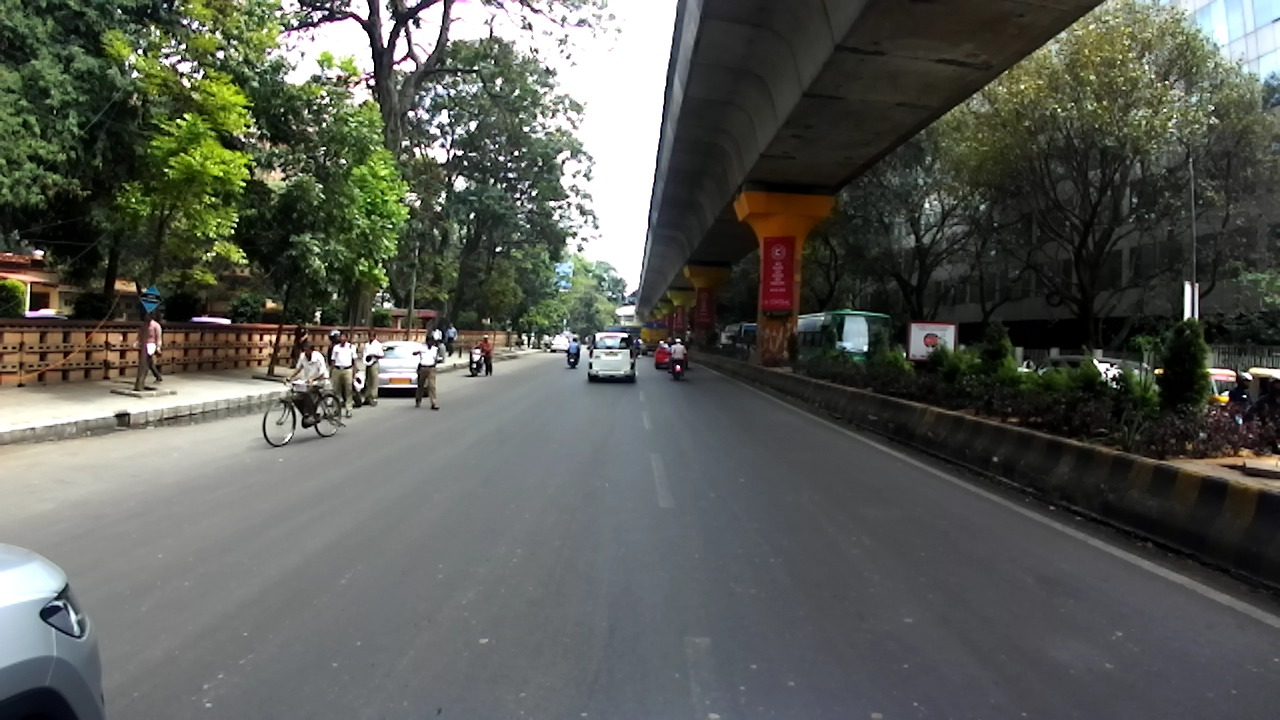autorickshaw: (1152, 367, 1241, 422), (1245, 367, 1280, 430)
bus: (799, 308, 894, 377), (722, 322, 757, 350)
car: (1, 542, 107, 720), (1032, 356, 1142, 394), (369, 340, 431, 397), (587, 333, 637, 381), (654, 338, 689, 370), (550, 334, 571, 353)
motorcycle: (263, 377, 346, 449), (339, 368, 364, 407), (668, 351, 686, 380), (469, 347, 485, 377), (566, 348, 579, 368), (633, 345, 641, 357)
person: (412, 334, 443, 409), (331, 332, 358, 418), (135, 311, 164, 382), (361, 327, 383, 406), (327, 330, 347, 384), (291, 319, 310, 369), (476, 335, 493, 375), (446, 322, 458, 357), (540, 333, 552, 355), (437, 340, 446, 364), (431, 326, 442, 345)
rider: (287, 343, 326, 424), (1228, 371, 1254, 413), (668, 337, 688, 374), (1018, 353, 1035, 373), (567, 338, 580, 363), (634, 337, 644, 349)
truck: (638, 322, 669, 356)
vehicle fallback: (1123, 361, 1153, 395), (608, 325, 641, 347), (721, 330, 741, 349), (563, 332, 581, 349), (685, 326, 693, 345)
